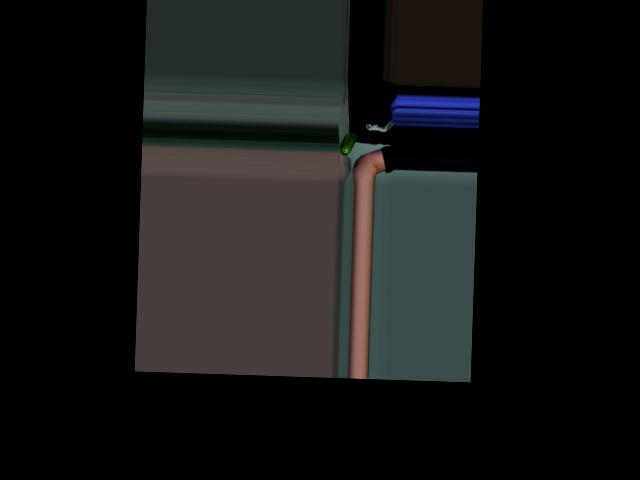cucumber: (338, 131, 357, 156)
